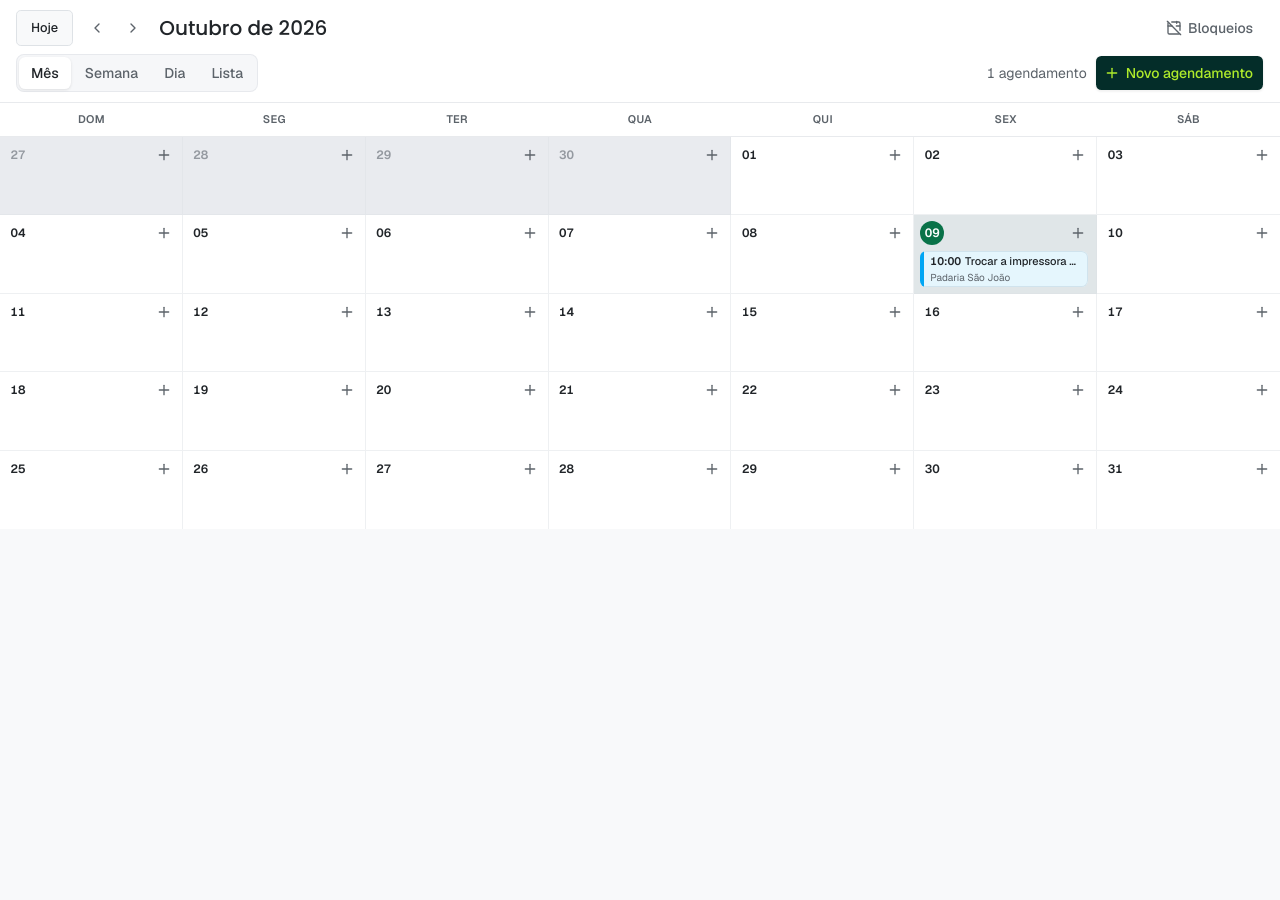
Test: AgendaCalendar › tocar no compromisso abre a edição dele
Click the button "10:00 Trocar a impressora fiscal Padaria São João": x=1004, y=269 [920,251,1088,286]
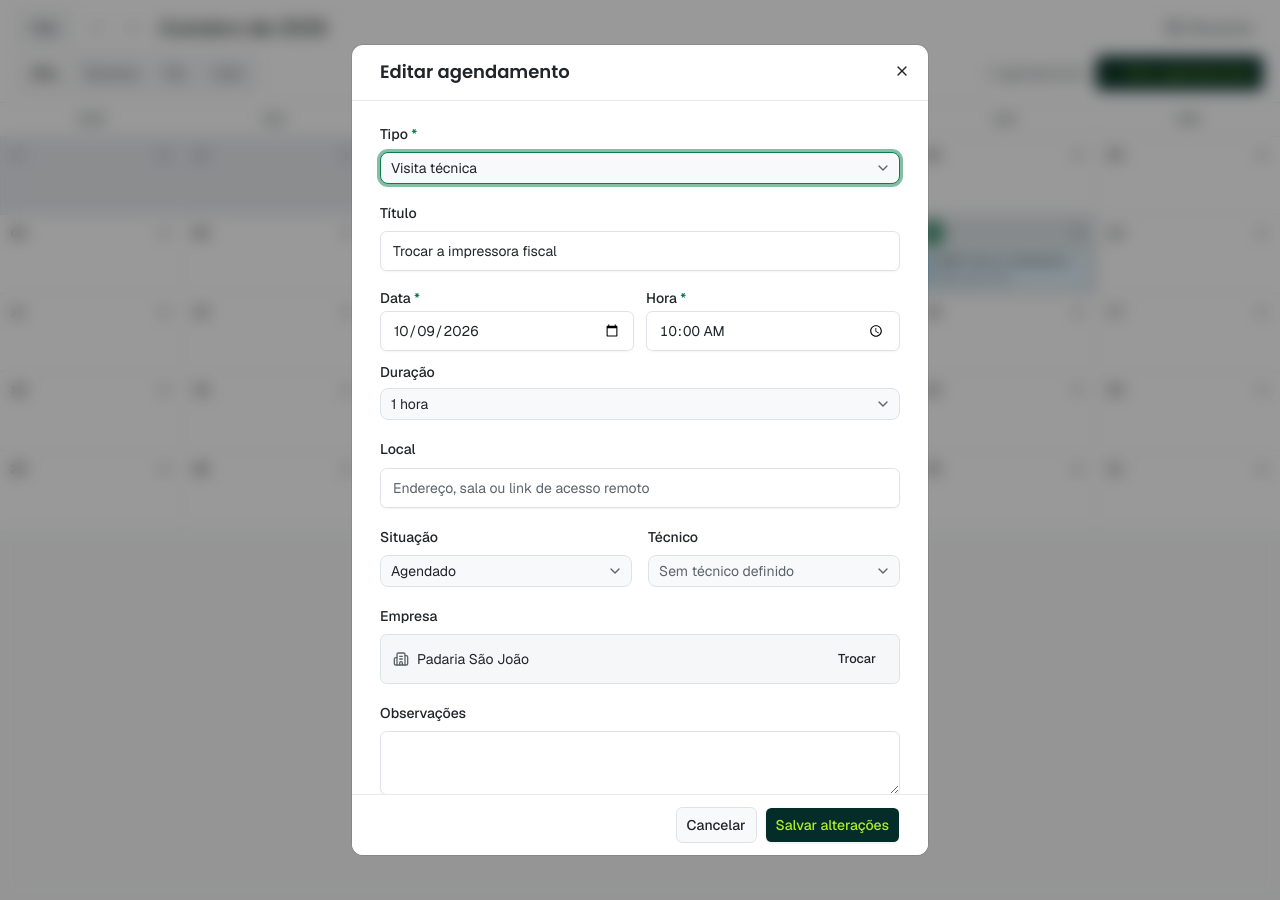
Check: the heading "Editar agendamento" is shown, box [380,61,570,84]
Check: the date field labelled "Data *" holds "2026-10-09", box [380,311,634,351]
Check: the time field labelled "Hora *" holds "10:00", box [646,311,900,351]
